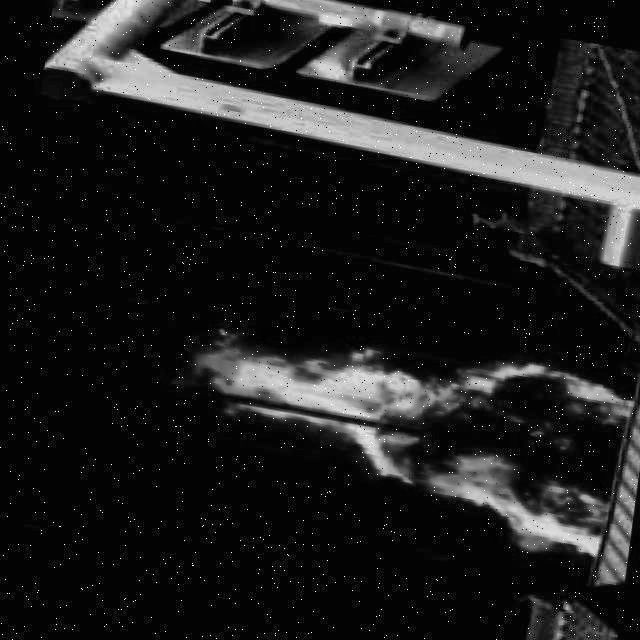Fire: (173, 298, 635, 560)
